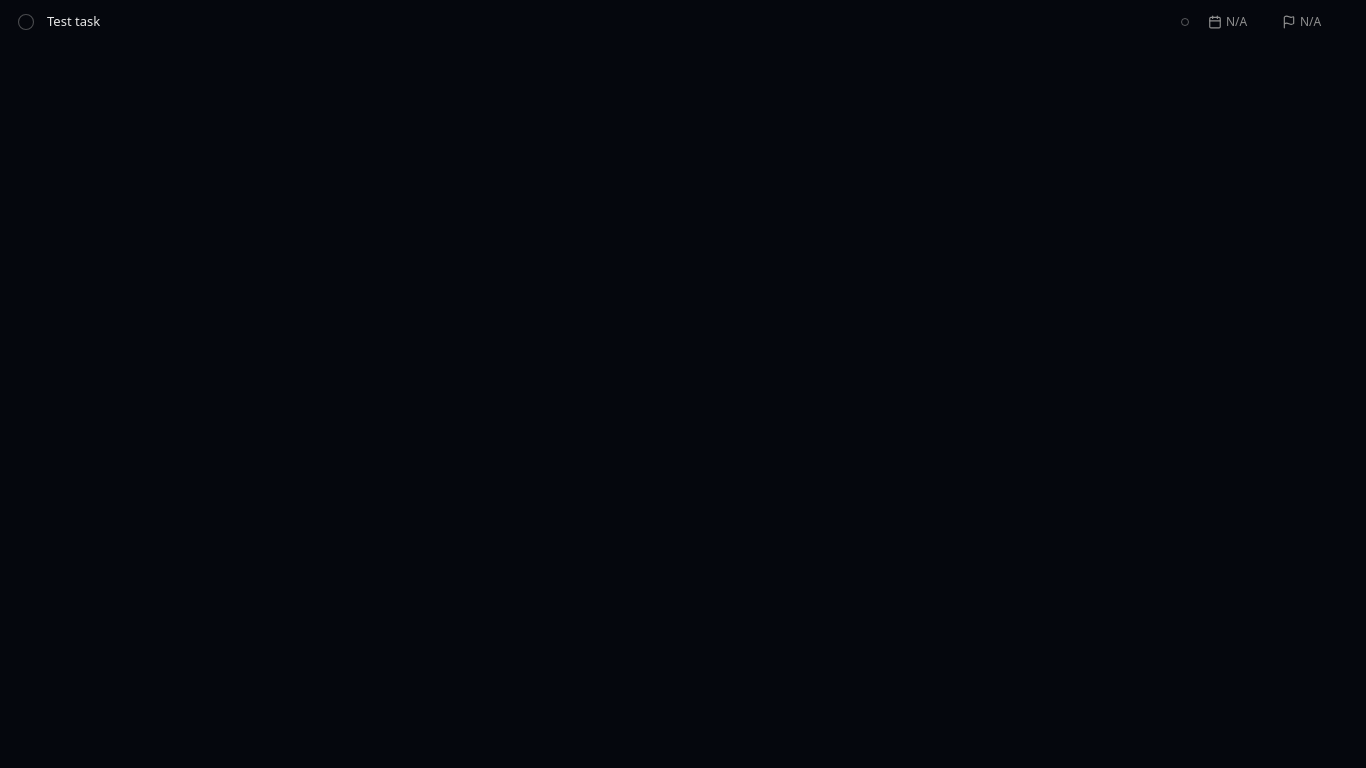
TaskItem (collapsed) › opens calendar popover when when-date button is clicked
Click the 1st button "N/A" at (1238, 22), box x1=1202 y1=10 x2=1274 y2=34
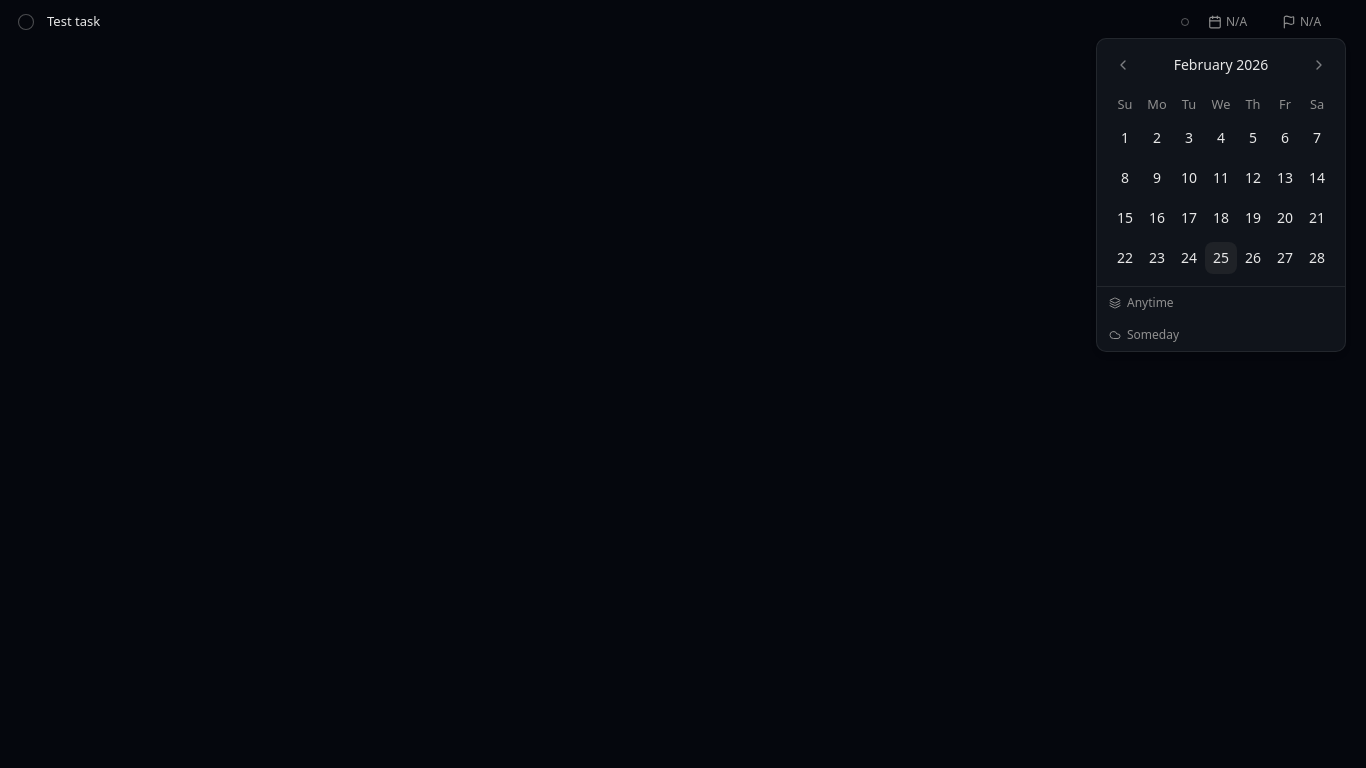
Check: the table is shown, box x1=1109 y1=95 x2=1333 y2=274
